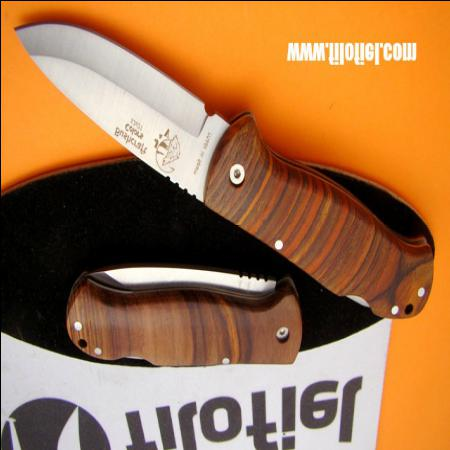long weapon: (5, 9, 239, 209)
